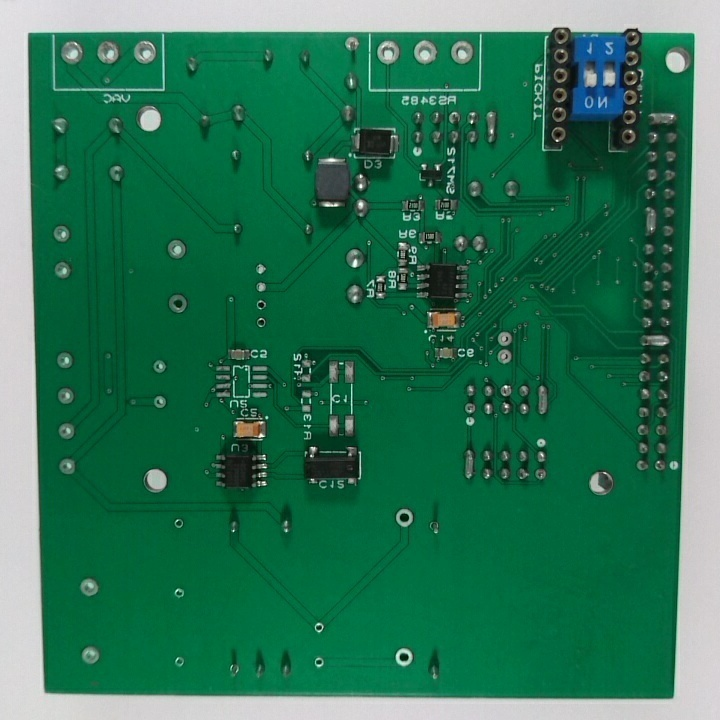F: (133, 40, 159, 68), (413, 39, 439, 66), (450, 40, 476, 67), (378, 40, 402, 67), (96, 41, 121, 66), (60, 41, 84, 66), (165, 238, 188, 260), (166, 293, 189, 315), (393, 646, 415, 668), (80, 645, 102, 666), (395, 508, 416, 529), (79, 577, 99, 598), (56, 385, 75, 406), (52, 225, 72, 244), (58, 456, 77, 475), (57, 422, 76, 441), (53, 261, 72, 280), (343, 35, 361, 54), (496, 349, 513, 365), (152, 359, 168, 375), (639, 370, 654, 386), (497, 331, 512, 347), (152, 394, 168, 409), (227, 662, 240, 679), (655, 424, 669, 439), (448, 111, 462, 126), (654, 459, 667, 474), (428, 520, 441, 535), (534, 467, 547, 482), (253, 262, 267, 275), (255, 281, 269, 294), (255, 300, 269, 313), (464, 403, 477, 417), (500, 384, 512, 399), (255, 317, 268, 330), (173, 517, 185, 529), (174, 587, 186, 599), (313, 621, 324, 634), (174, 656, 185, 668), (314, 656, 324, 669)
P: (483, 108, 499, 148), (639, 332, 673, 350), (647, 110, 679, 129), (462, 446, 476, 485), (536, 381, 550, 418), (645, 206, 658, 239)
